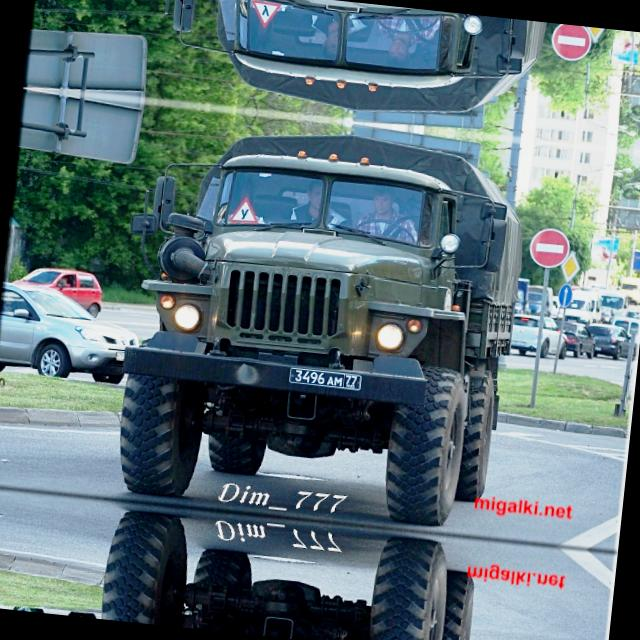military: (284, 363, 366, 395)
